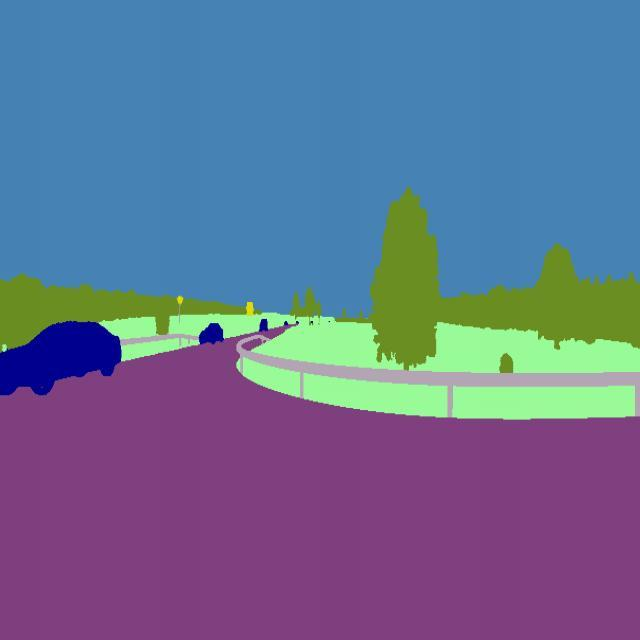safe: (0, 320, 124, 396), (198, 322, 226, 346), (259, 317, 268, 334)
